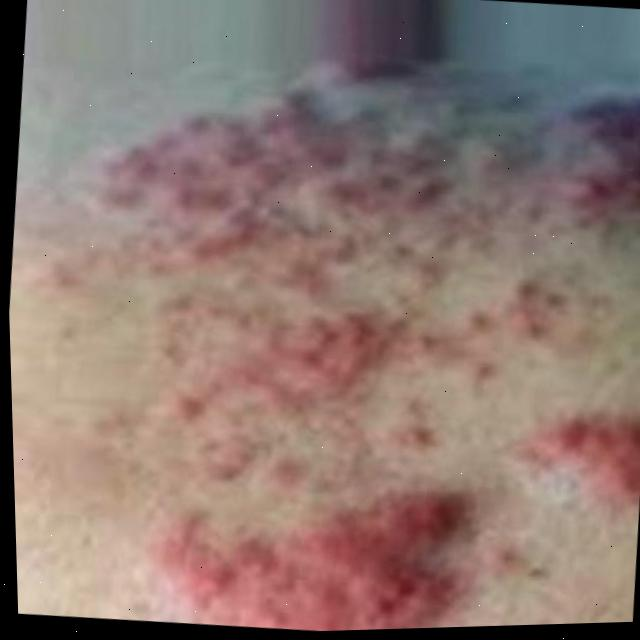Shingles: (59, 15, 640, 638)
